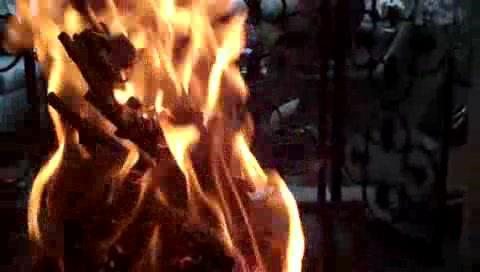fire: (25, 3, 276, 271)
